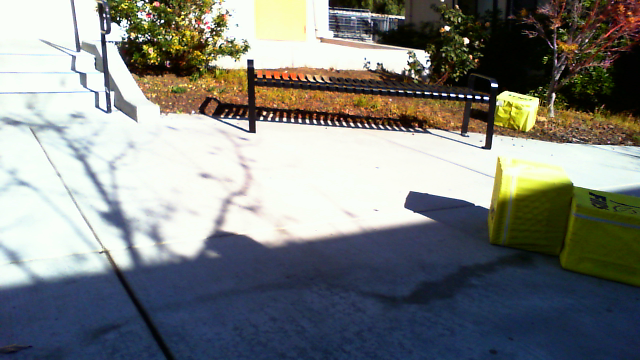cube: (488, 157, 575, 255), (559, 186, 640, 288), (494, 89, 539, 132)
